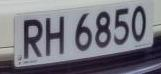0: (131, 4, 148, 45)
5: (113, 2, 133, 52)
6: (73, 9, 95, 57)
8: (93, 5, 114, 55)
H: (44, 12, 68, 61)
R: (19, 15, 44, 61)
